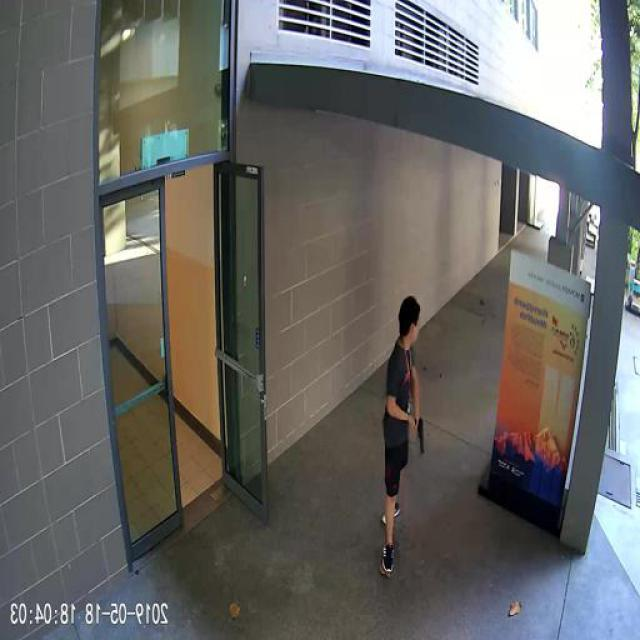Gun: (412, 414, 427, 454)
